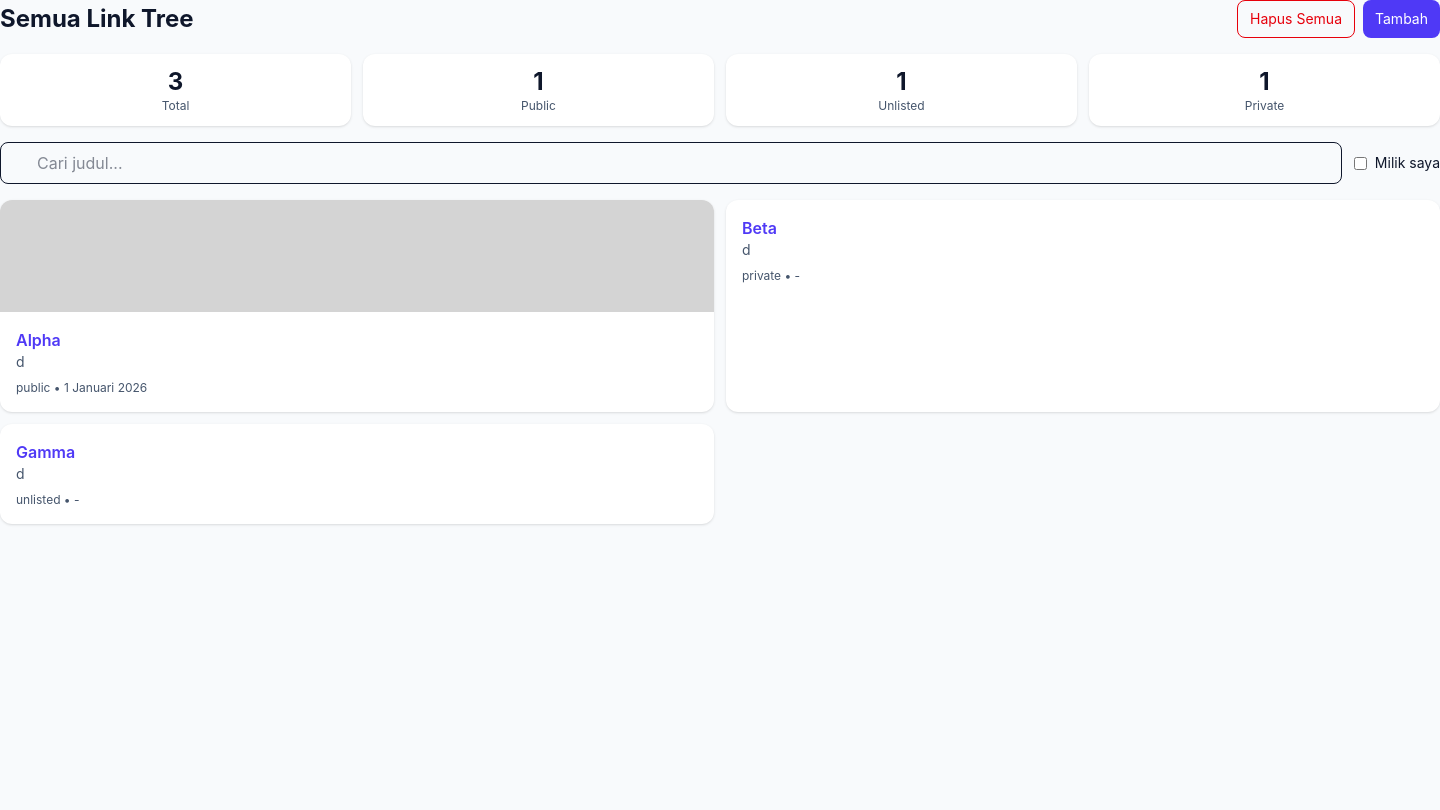
Scenario: HomePage › membuka dan menutup modal tambah
Click the button "Tambah" at [1402, 19], box 1363,0 -> 1439,38
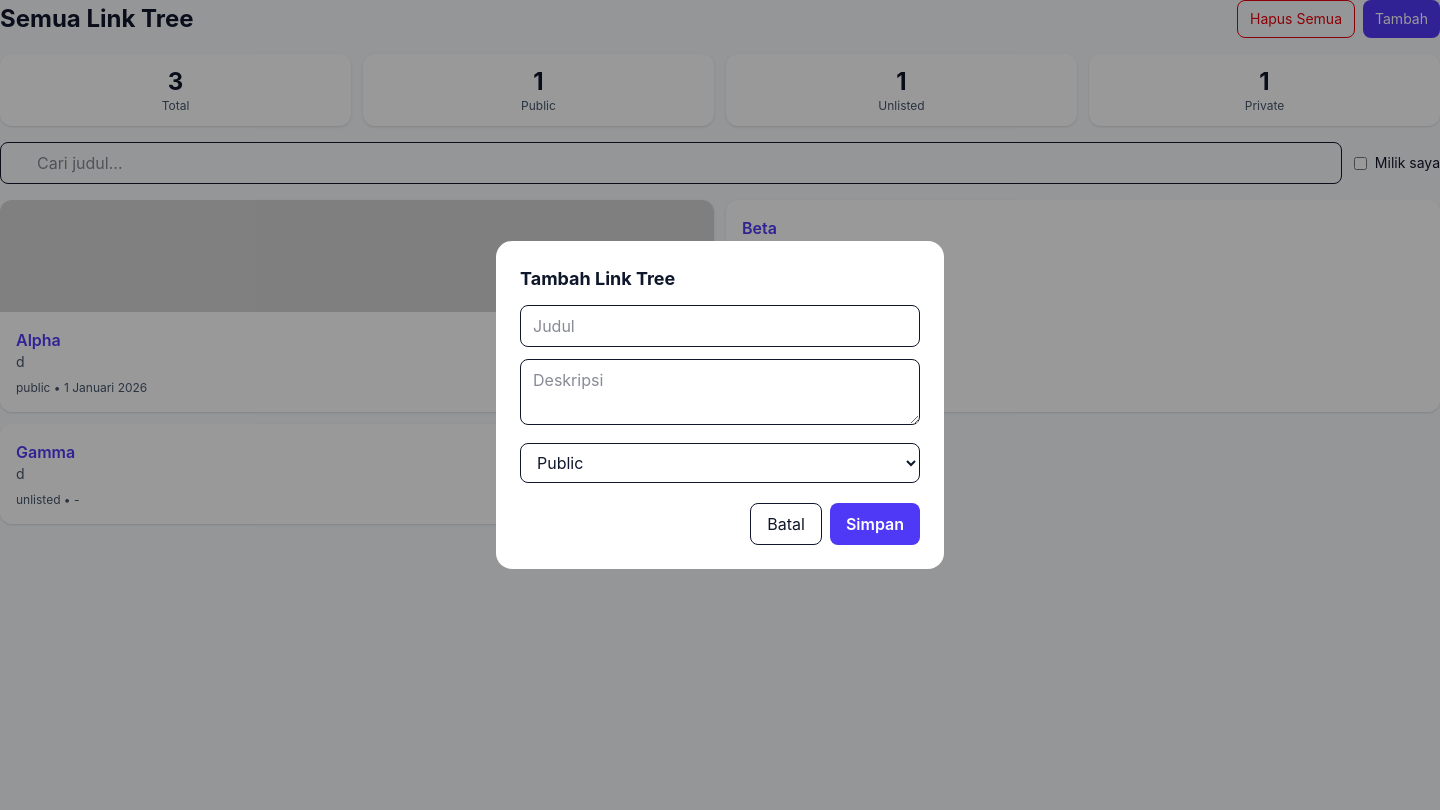
Check: the heading "Tambah Link Tree" is shown, box 520,268 -> 675,289
Click the button "Batal" at [786, 524], box 750,503 -> 822,545
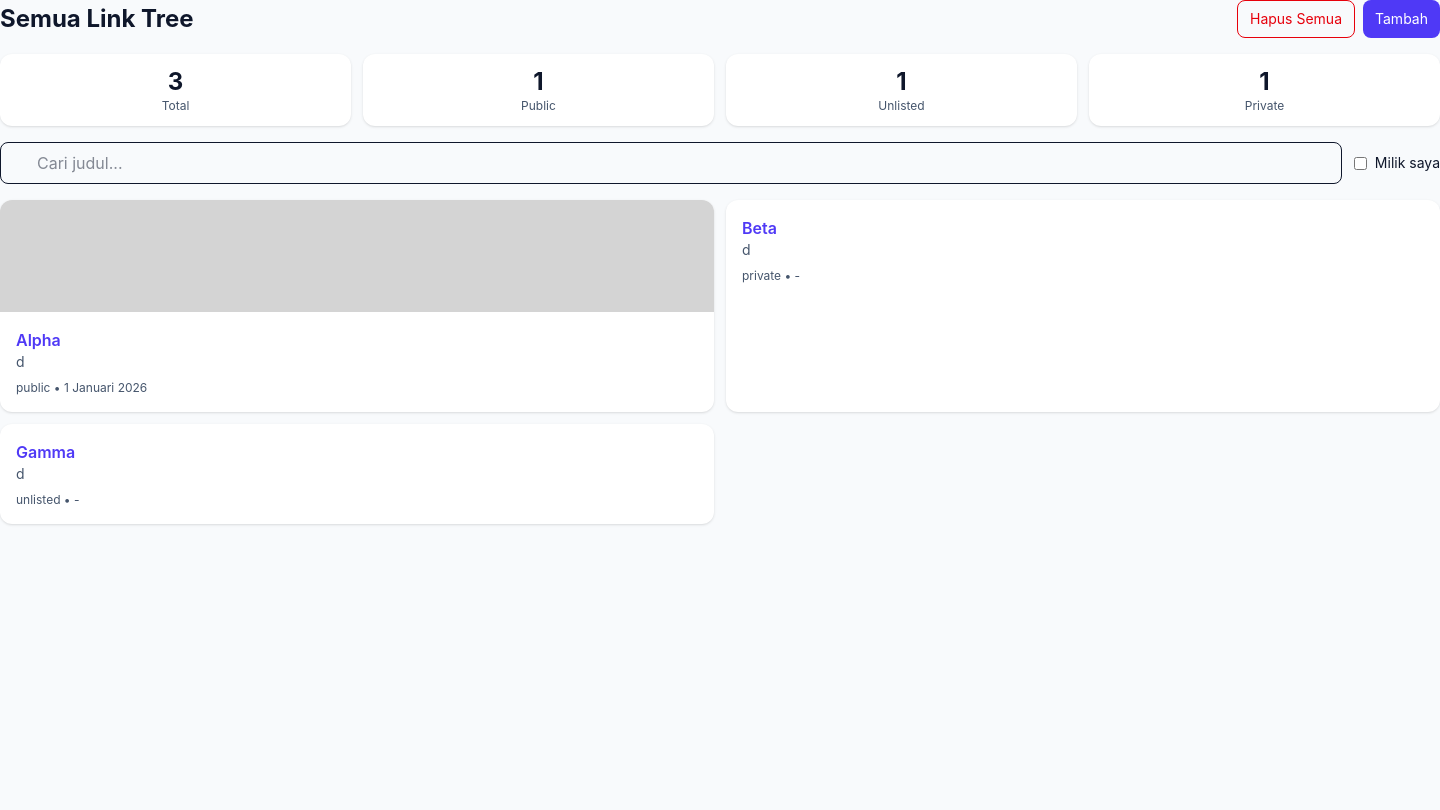
Check: the heading "Tambah Link Tree" is gone
